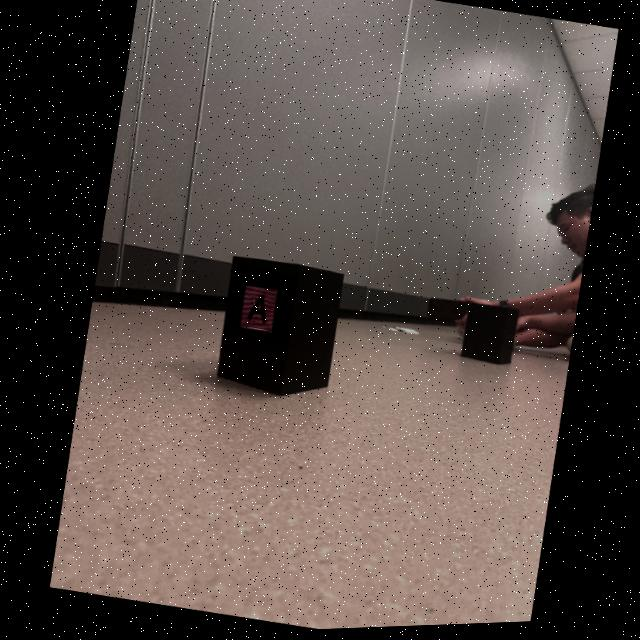A: (245, 297, 263, 325)
